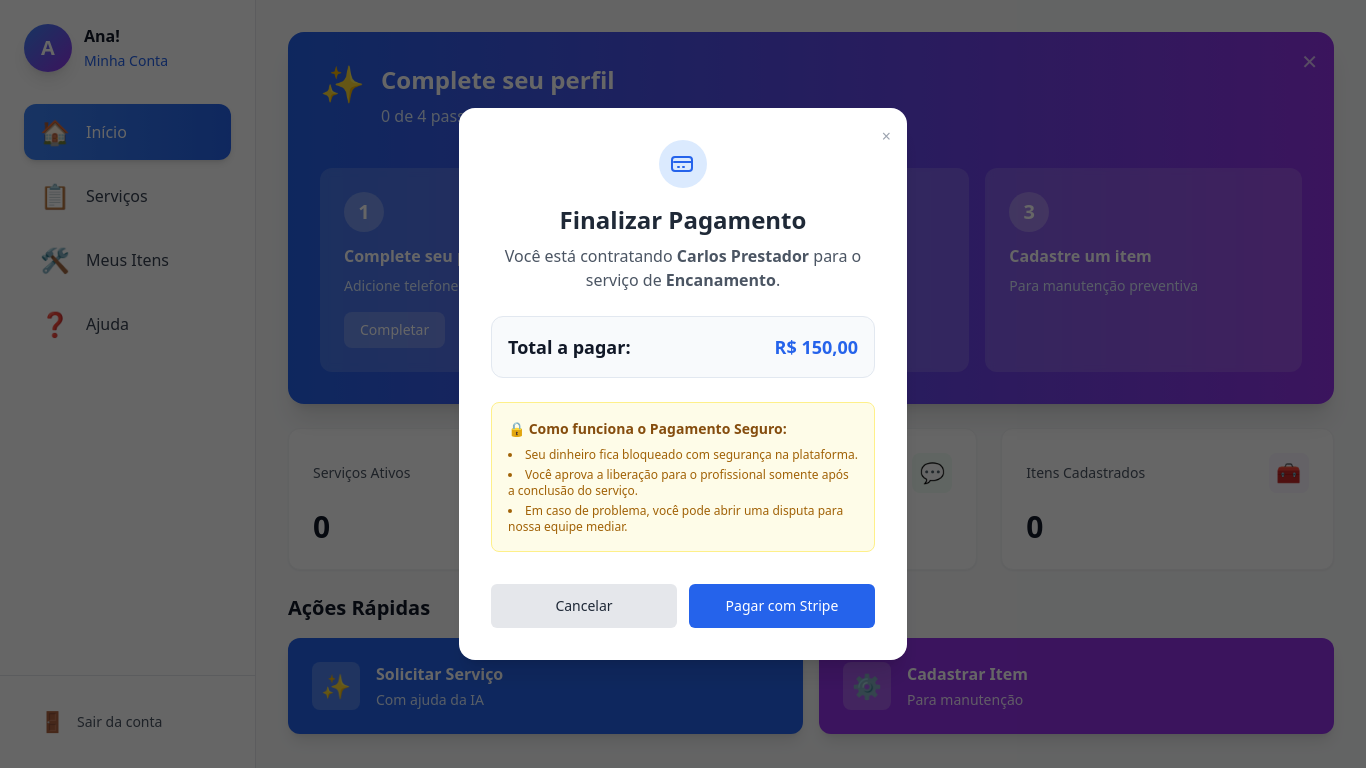
ClientDashboard › Fluxo de Pagamento › deve fechar o modal de pagamento ao clicar em cancelar
Click the button "Cancelar" at (584, 606), box [491, 584, 677, 628]
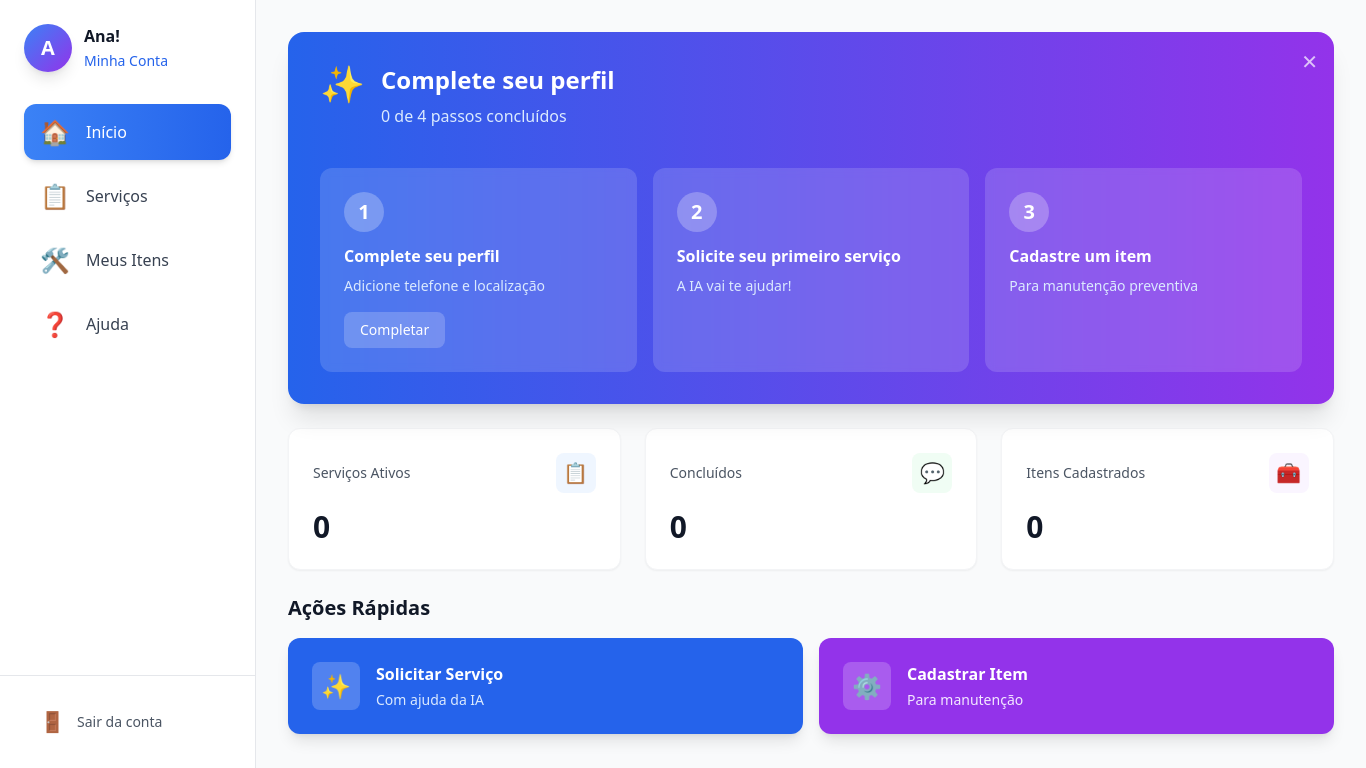
Expected: the element with test id "payment-modal" is gone
